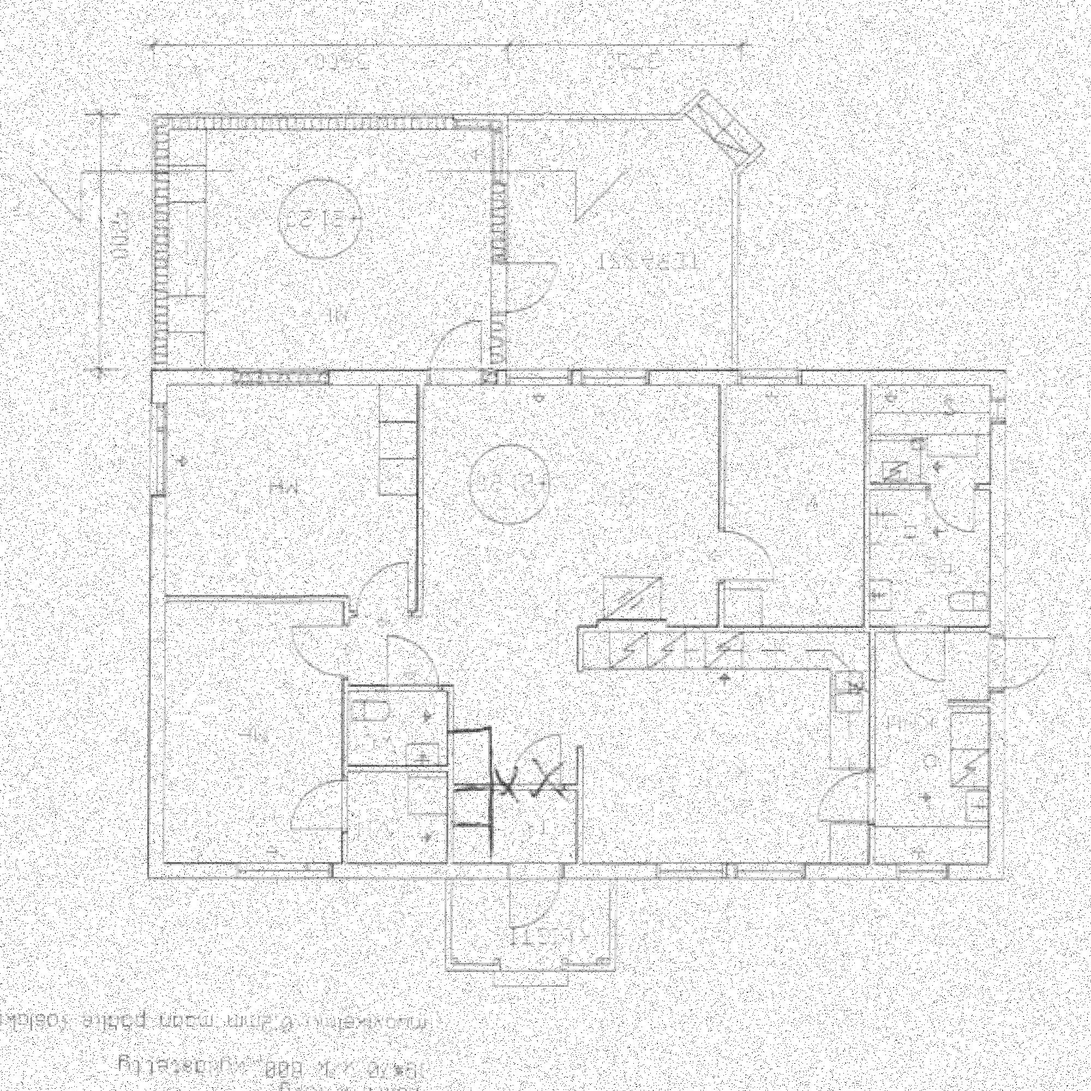wall: (151, 863, 1006, 879), (151, 113, 168, 879), (989, 371, 1006, 879), (491, 371, 1006, 387), (151, 113, 507, 129), (167, 371, 491, 387), (491, 113, 507, 387), (667, 626, 1006, 632), (343, 595, 349, 879), (718, 371, 724, 626), (864, 371, 870, 626), (577, 626, 583, 879), (871, 632, 877, 879), (418, 371, 424, 617), (151, 595, 349, 601), (446, 685, 452, 879), (598, 619, 667, 632), (870, 483, 989, 489), (343, 685, 452, 691), (343, 766, 446, 772), (343, 611, 424, 617), (947, 700, 1005, 706), (578, 626, 597, 632)
